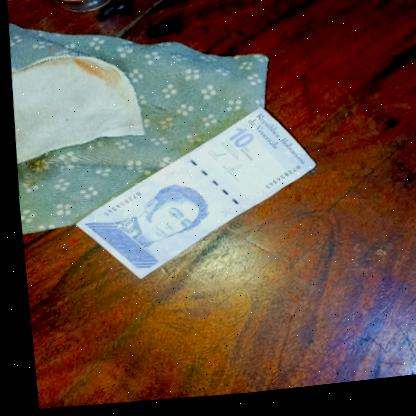ten-front-vef: (62, 103, 323, 294)
